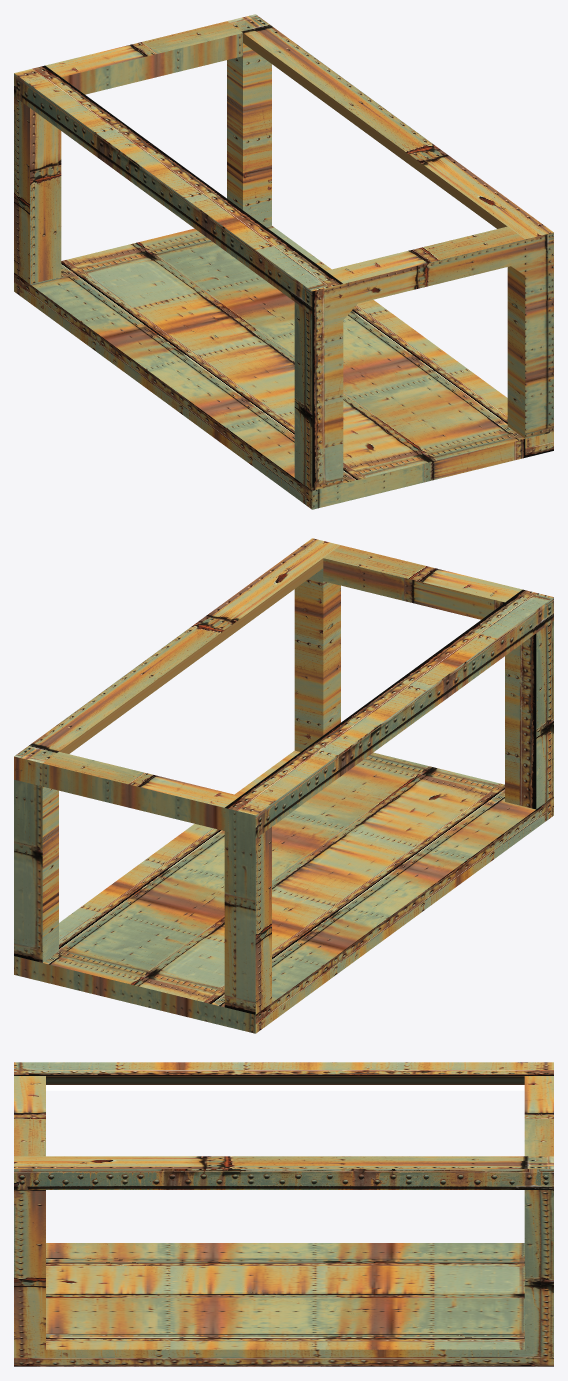
Rendered from Elevatortex.glb.
3 views of the same model, one above another, from view 1: azimuth 30°, elevation 25°; view 2: azimuth 150°, elevation 25°; view 3: azimuth 270°, elevation 25° (orthographic). The views are drawn at different scales.
Visible parts, largest first — view 1: Cube; view 2: Cube; view 3: Cube.
Boxes of the visible parts, <box> form: Cube: <box>14,14,553,509</box>; Cube: <box>14,538,553,1033</box>; Cube: <box>14,1062,553,1366</box>.
Bounding box in the file's own units: 7.12 × 6.15 × 15.22.
2 materials, 1 textured.
